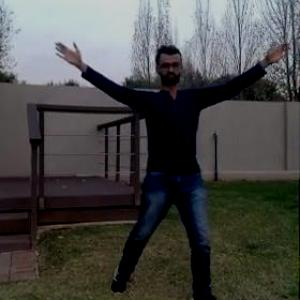takeoff: (44, 35, 296, 299)
